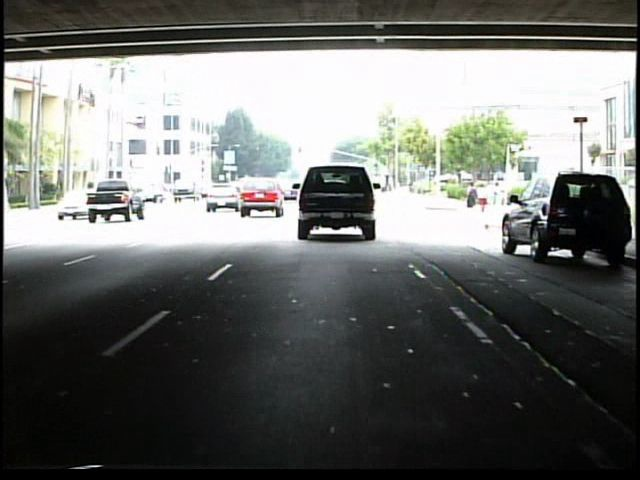person: (465, 180, 479, 216), (491, 178, 505, 210), (479, 183, 490, 212)
